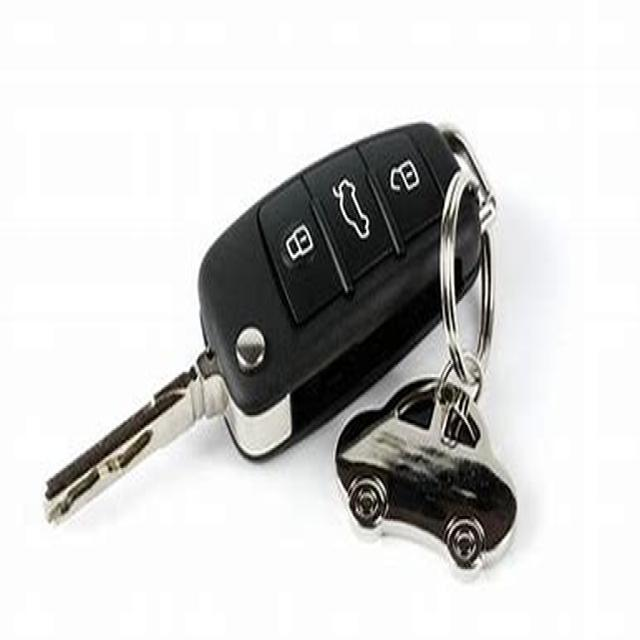key: (19, 66, 548, 610)
